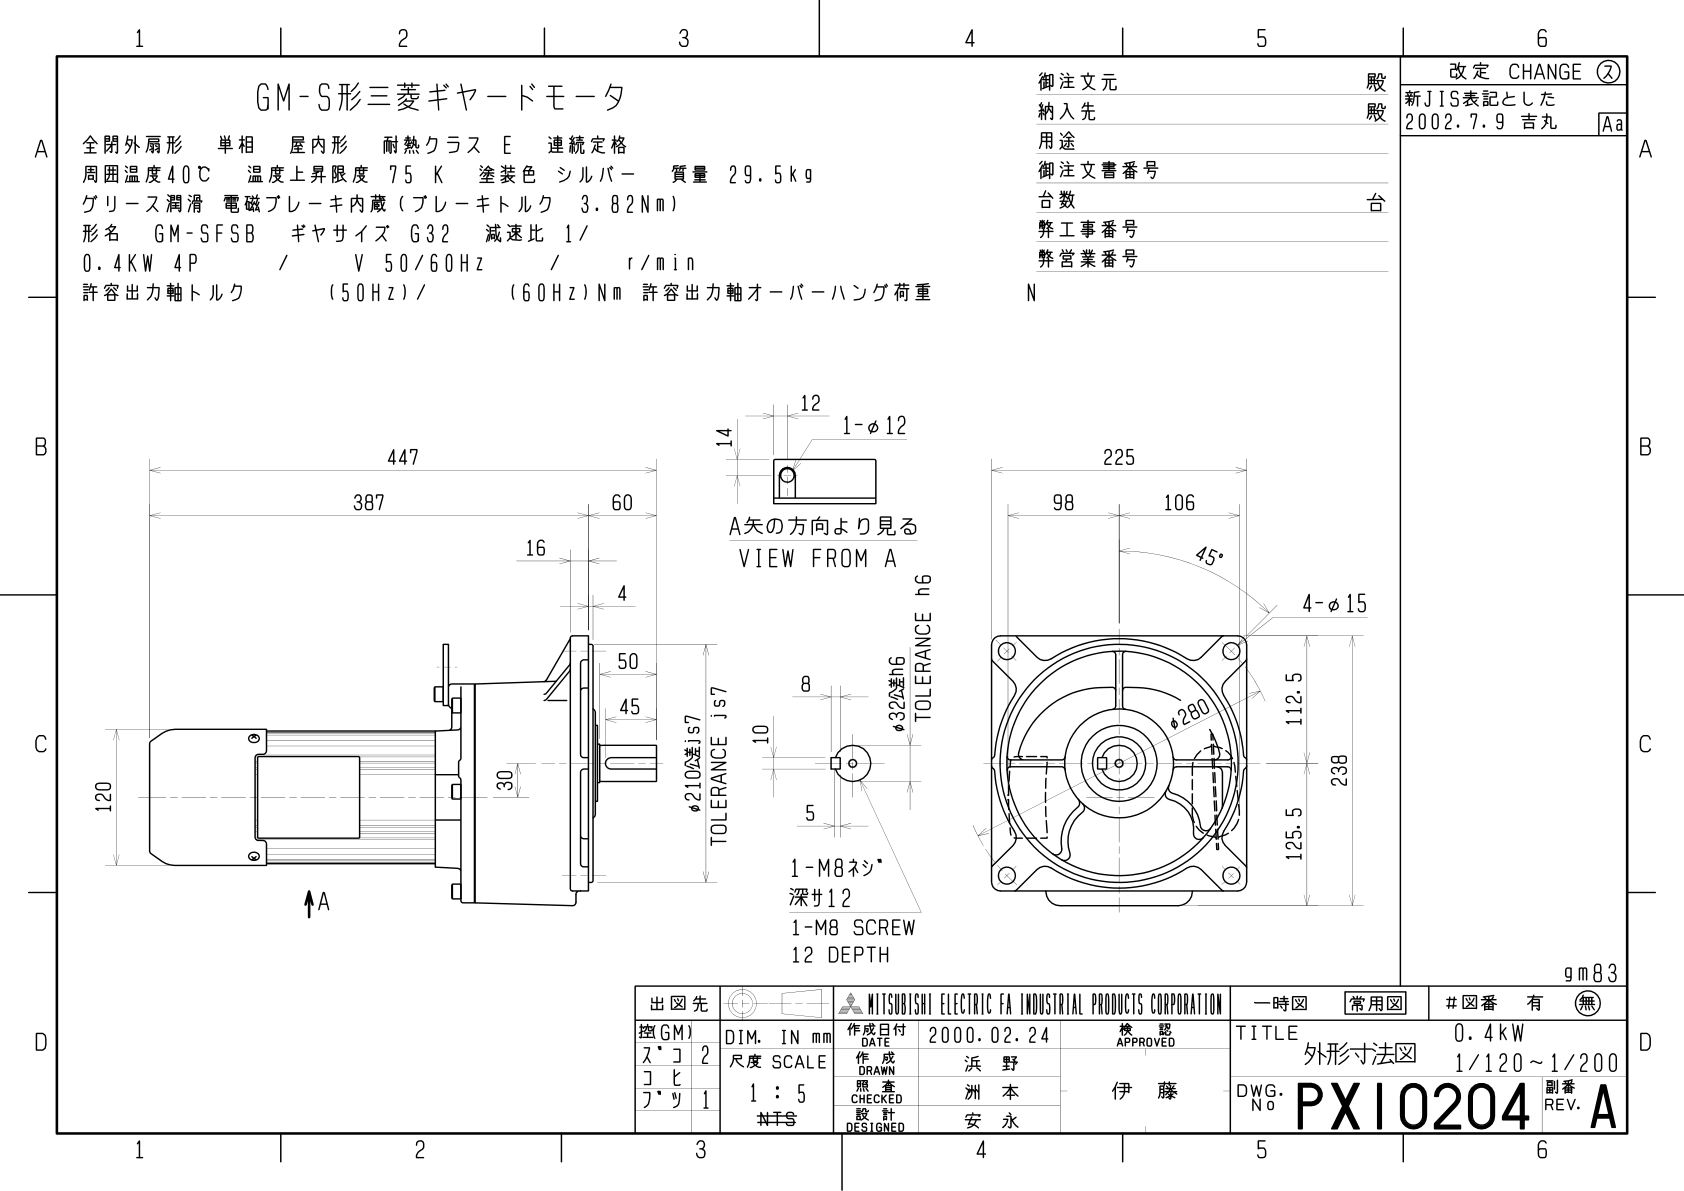GM_S_屋内＿単相_フランジ: (79, 369, 1392, 967)
